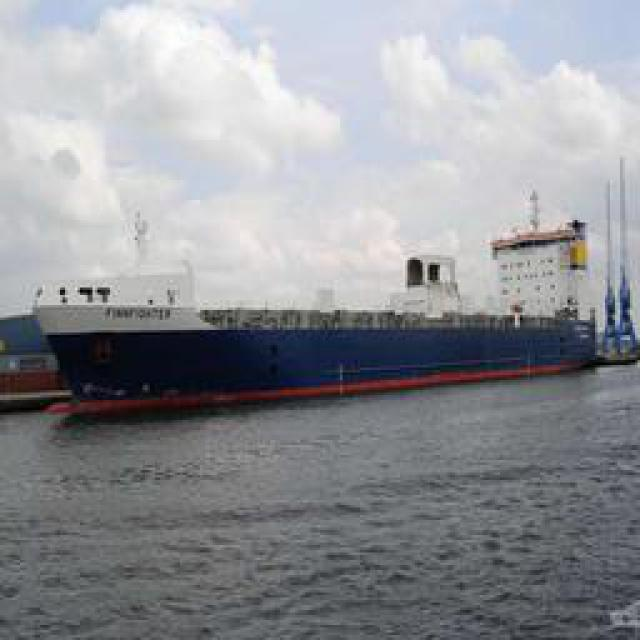Ship: (26, 274, 616, 417)
